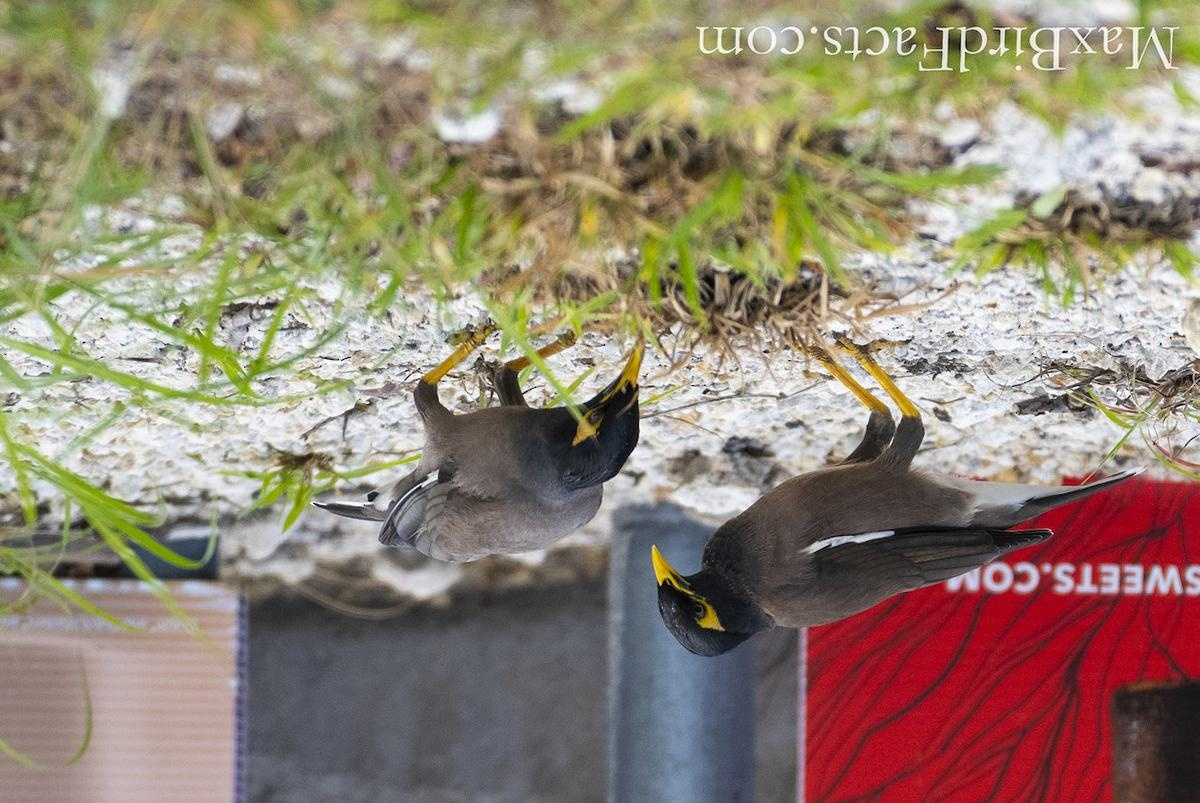myna: (625, 336, 1047, 689), (311, 339, 648, 574)
